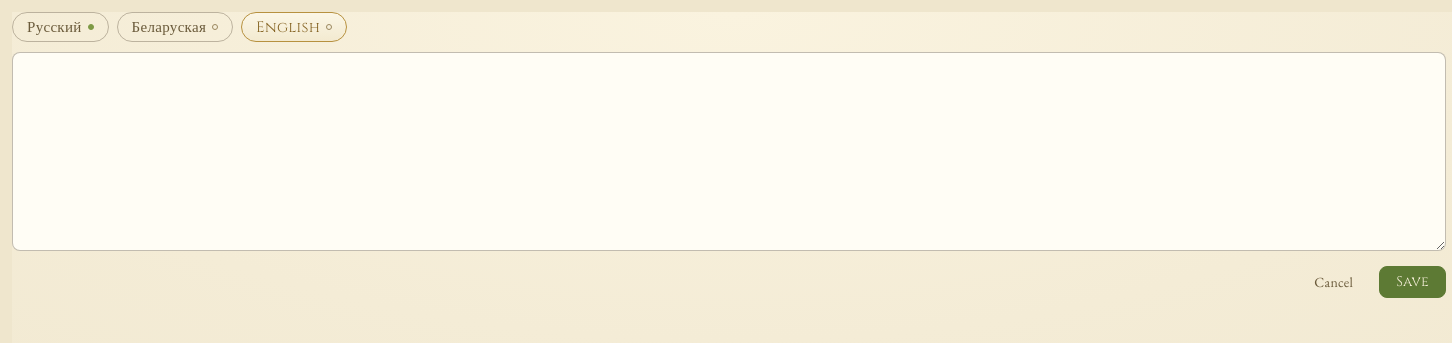
Test case: BiographyEditor › replaces the save error with the requireOne hint once all locales are cleared
Click the button with test id "bio-save". click: click(1413, 282)
box: [1379,266,1446,298]
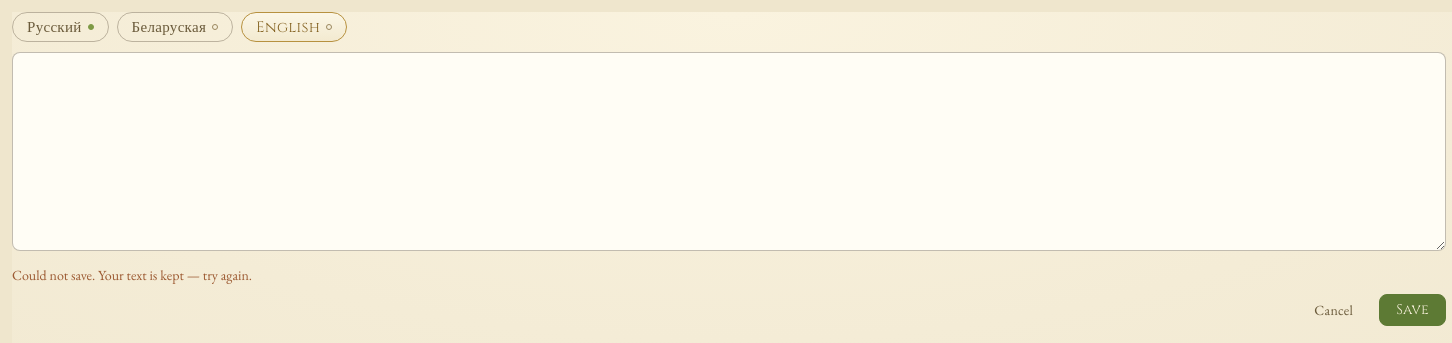
Expected: the text "Could not save. Your text is kept — try again." is shown, [12,266,252,284]
// Clear the only non-empty locale (ru) so every buffer is empty.
Click the tab with test id "bio-tab-ru". click: click(60, 27)
box: [12,12,109,42]
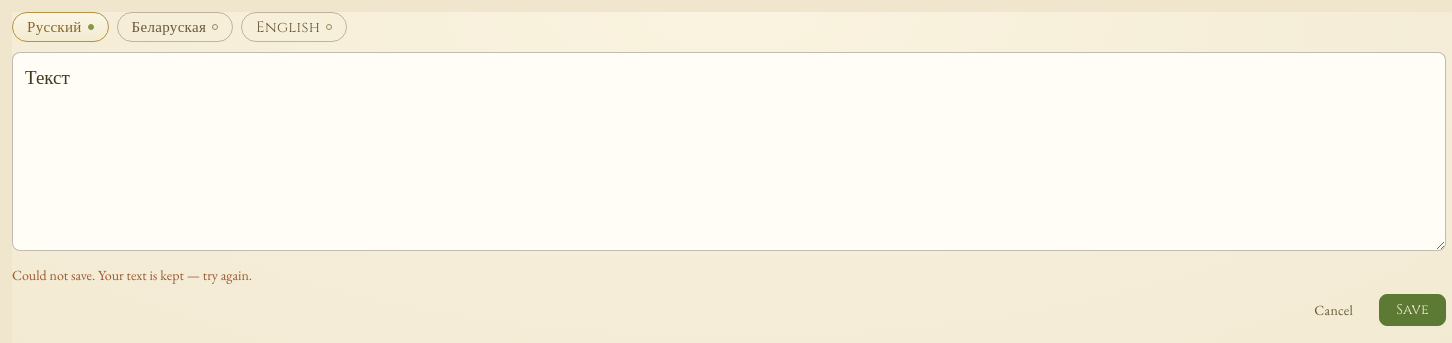
Clear the text box with test id "bio-input". click: (729, 151)
box: [12,52,1446,251]
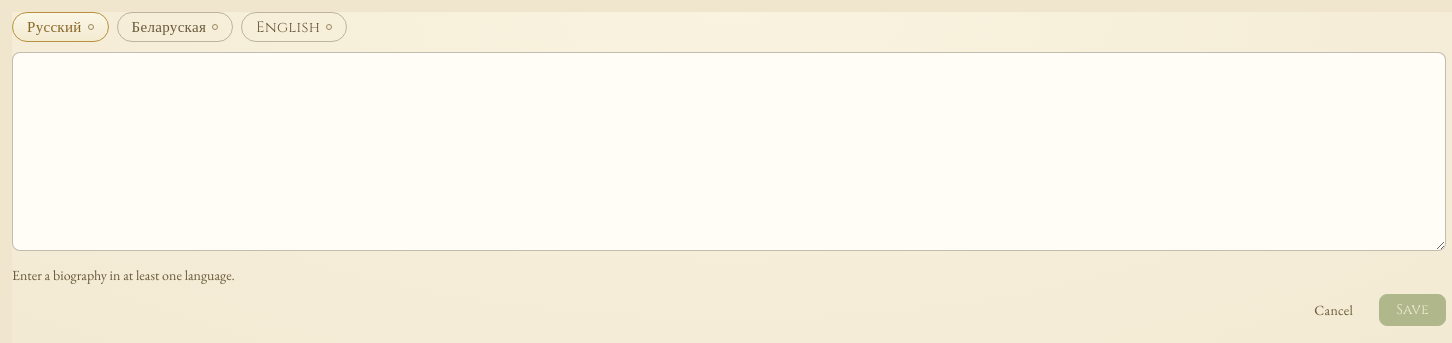
Expected: the text "Enter a biography in at least one language." is shown, [12,266,235,284]
